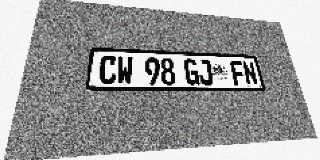8: (160, 58, 176, 85)
9: (145, 57, 161, 85)
C: (99, 55, 117, 85)
F: (230, 61, 246, 85)
G: (184, 59, 200, 85)
J: (197, 59, 214, 85)
N: (242, 61, 259, 85)
W: (116, 56, 133, 85)
